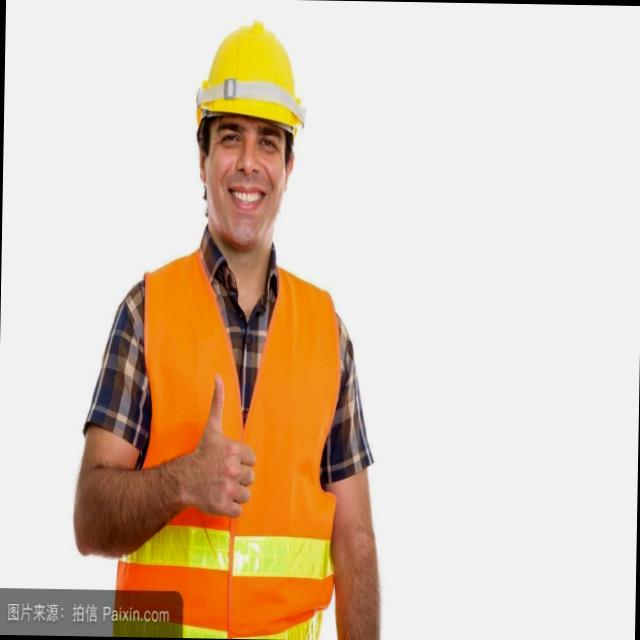helmet: (190, 26, 310, 130)
vest: (130, 256, 348, 589)
